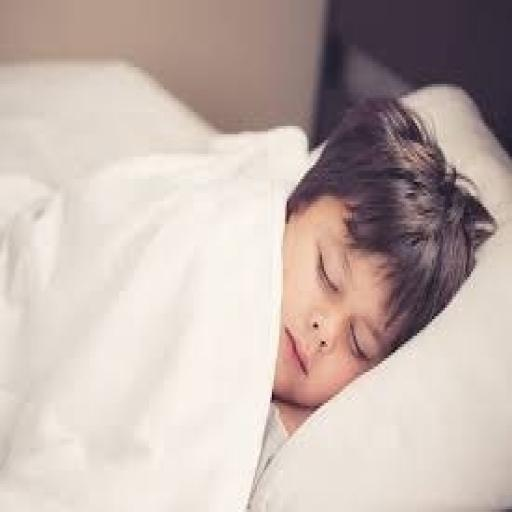sleeping: (0, 87, 499, 509)
